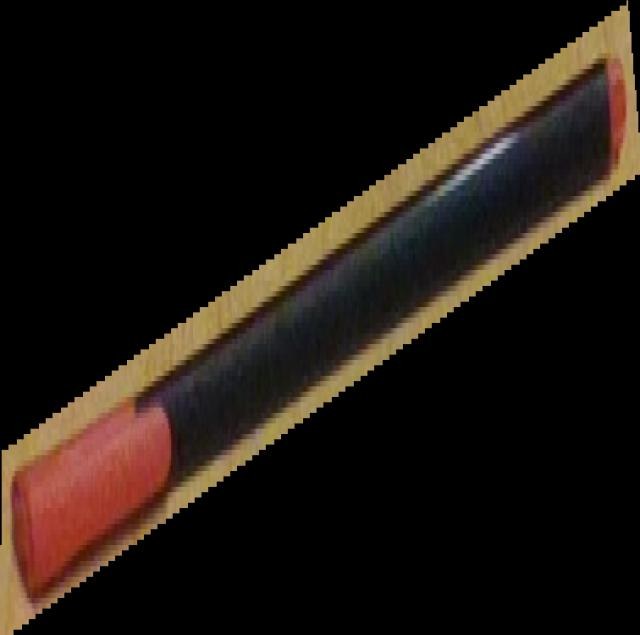red: (0, 0, 640, 635)
